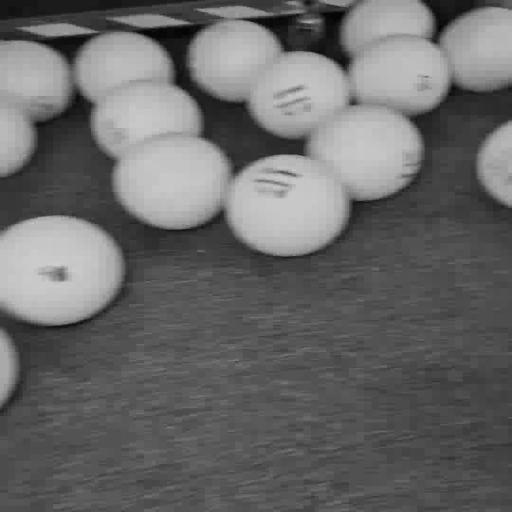fuel: (0, 216, 126, 326), (225, 155, 351, 257), (112, 134, 233, 230), (305, 105, 424, 201), (247, 51, 350, 139), (91, 81, 203, 159), (348, 35, 450, 116), (187, 20, 282, 102), (74, 32, 174, 103), (439, 7, 511, 92), (0, 41, 73, 121), (477, 120, 511, 208), (0, 102, 37, 177), (0, 329, 19, 408)
